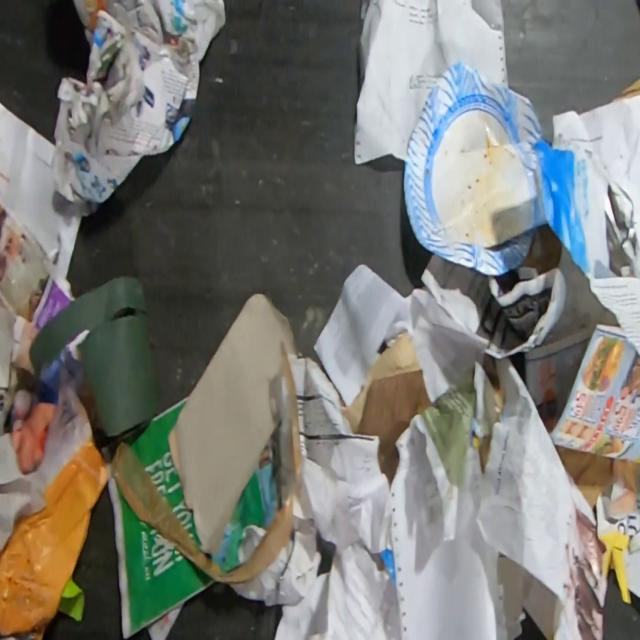cardboard: (166, 290, 300, 554), (401, 56, 547, 276), (27, 271, 163, 440), (351, 368, 432, 487), (339, 330, 420, 433), (594, 483, 640, 605), (554, 444, 613, 509), (520, 224, 562, 275), (611, 77, 640, 101)
soft_plastic: (108, 340, 302, 585), (0, 433, 110, 640), (532, 136, 592, 275), (9, 400, 57, 474)
